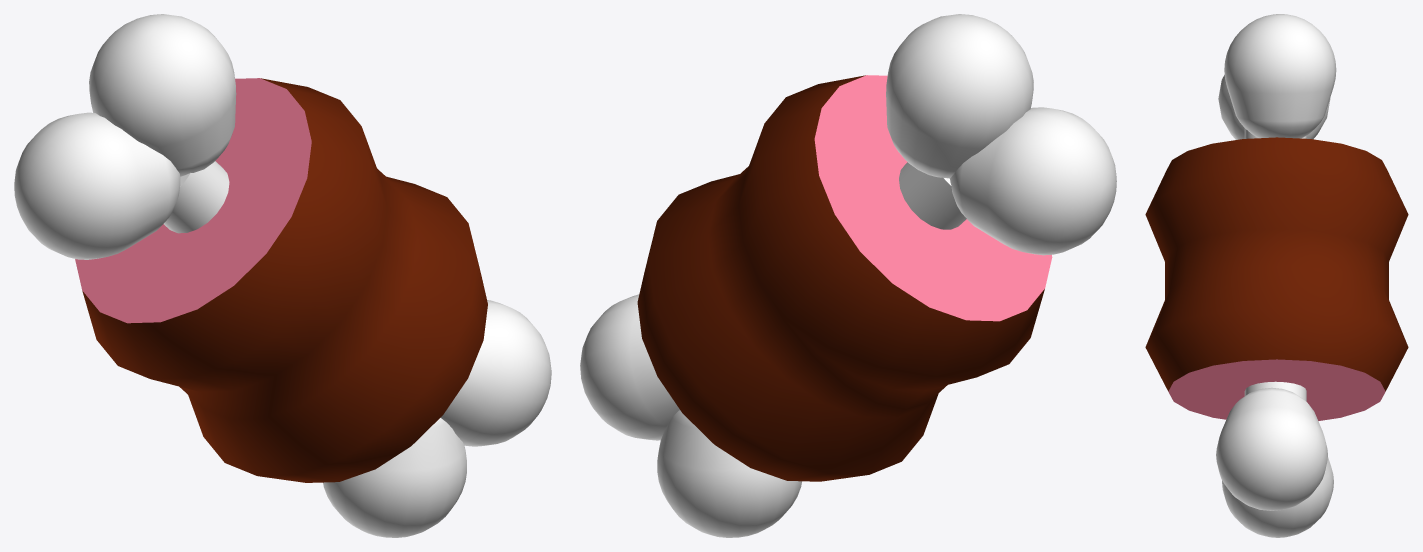
The model's file is niku000.obj.
3 views of the same model, side by side, from view 1: azimuth 30°, elevation 25°; view 2: azimuth 150°, elevation 25°; view 3: azimuth 270°, elevation 25° (orthographic). The views are drawn at different scales.
Parts seen in each view (by area): view 1: polySurface7 polySurface6, polySurface8; view 2: polySurface7 polySurface6, polySurface8; view 3: polySurface7 polySurface6, polySurface8.
Part boxes in pixels (left/top/right/bottom): polySurface7 polySurface6: left=75, top=78, right=487, bottom=482; polySurface8: left=14, top=14, right=551, bottom=537; polySurface7 polySurface6: left=637, top=75, right=1052, bottom=481; polySurface8: left=580, top=14, right=1116, bottom=537; polySurface7 polySurface6: left=1145, top=137, right=1408, bottom=420; polySurface8: left=1216, top=14, right=1336, bottom=537.
Bounding box in the file's own units: 27.87 × 29.15 × 16.23.
